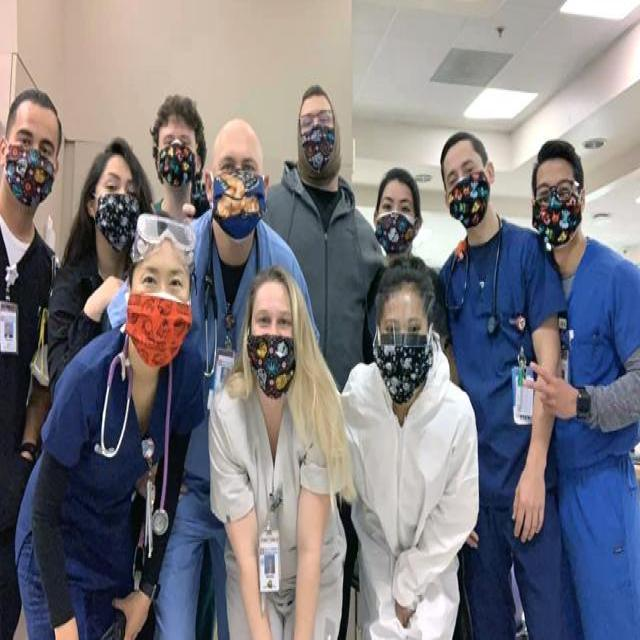bare_hand: (525, 355, 601, 445), (510, 454, 558, 567), (107, 575, 170, 640)
